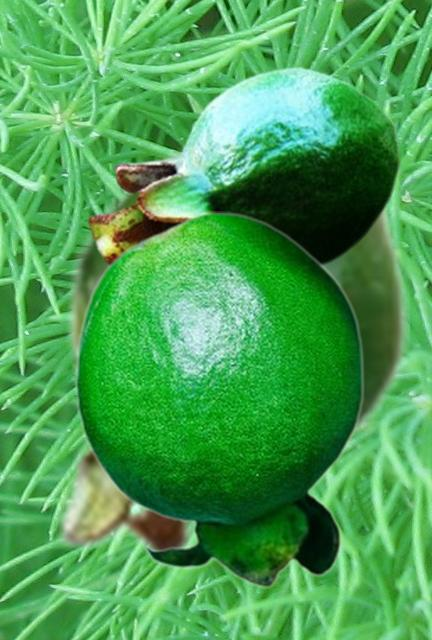guava: (56, 133, 408, 570), (73, 211, 364, 587), (87, 65, 400, 267)
